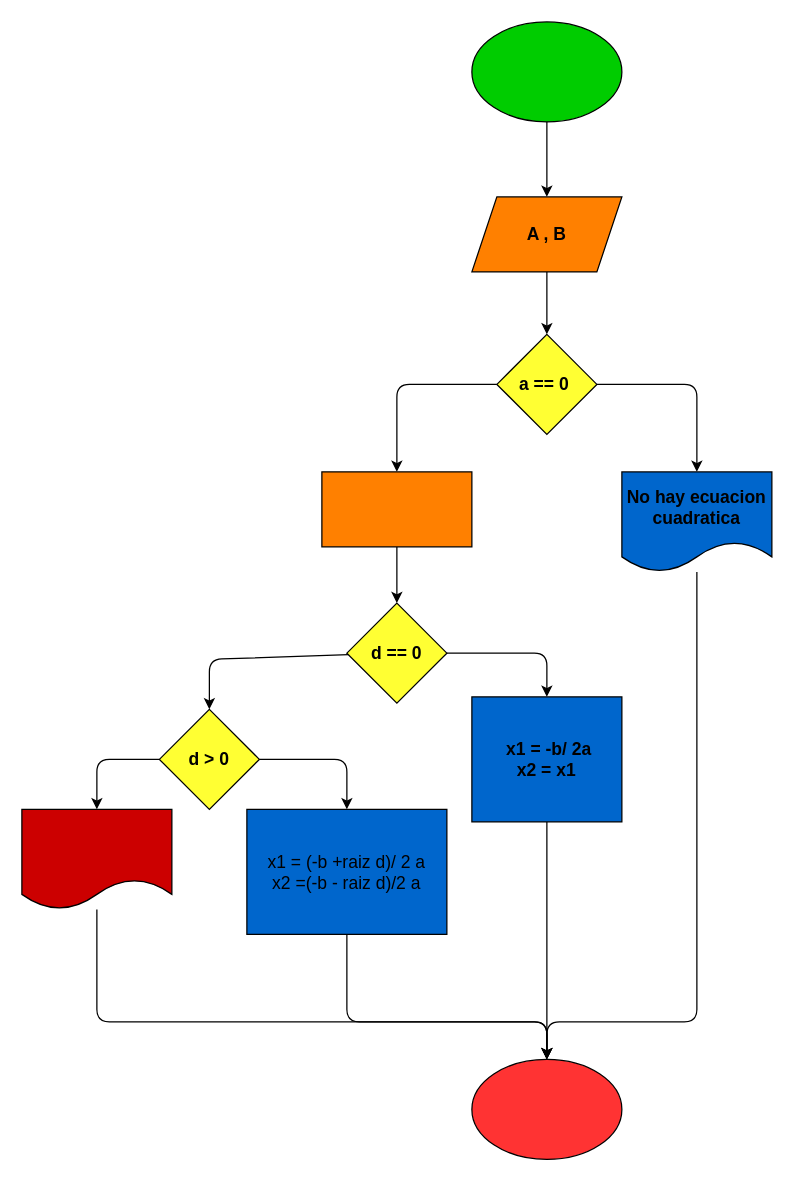
Image size: 794x1181. Some labels were removed from this diagram. The shapes that lost their labels are listed below. From the top down, each one's box as (x1, y1, x2, y2) in pixels, then its label:
(471, 21, 622, 122): INICIO
(321, 471, 472, 547): d = b 2 - 4*a*c
(21, 808, 172, 909): No hay solucion
(471, 1058, 622, 1159): FIN
